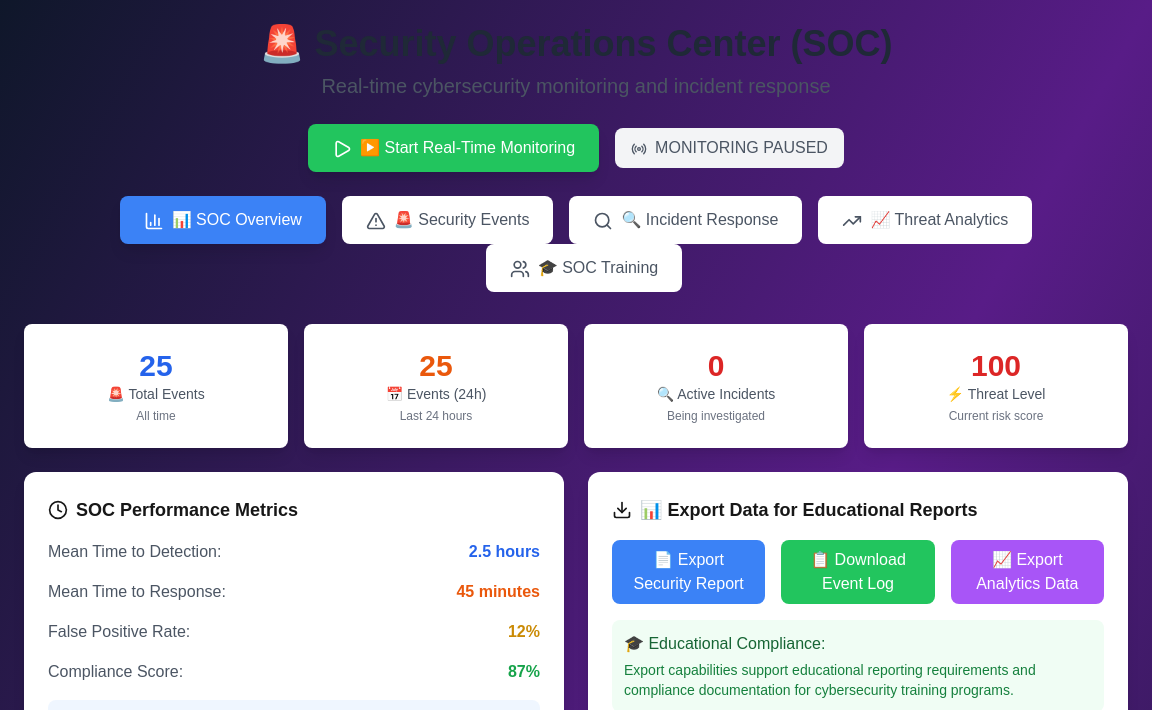
Test: 🏫 Educational Scenario Integration Tests › should handle typical classroom cybersecurity lesson scenario
// Teacher starts lesson by demonstrating real-time monitoring
Click the button "▶️ Start Real-Time Monitoring" at (454, 148), box [308,124,599,172]
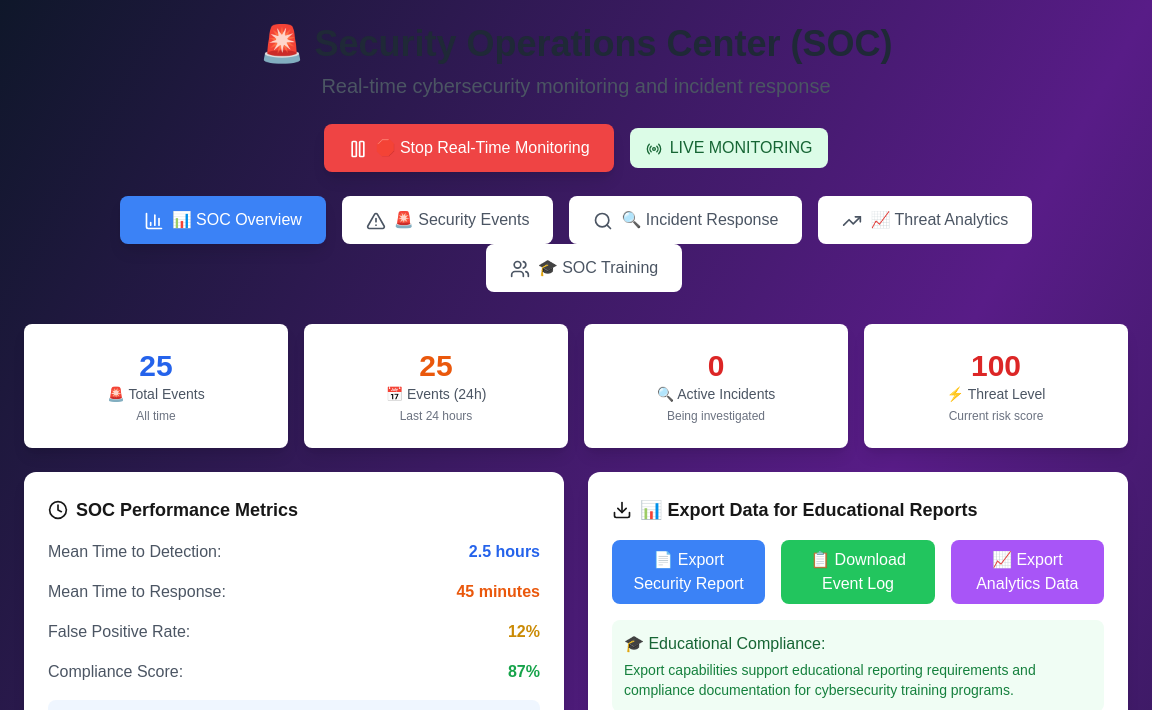
Expected: the button "🛑 Stop Real-Time Monitoring" is shown, [324,124,614,172]
// Teacher shows different views to students
Click the button "🚨 Security Events" at (448, 220), box [342,196,554,244]
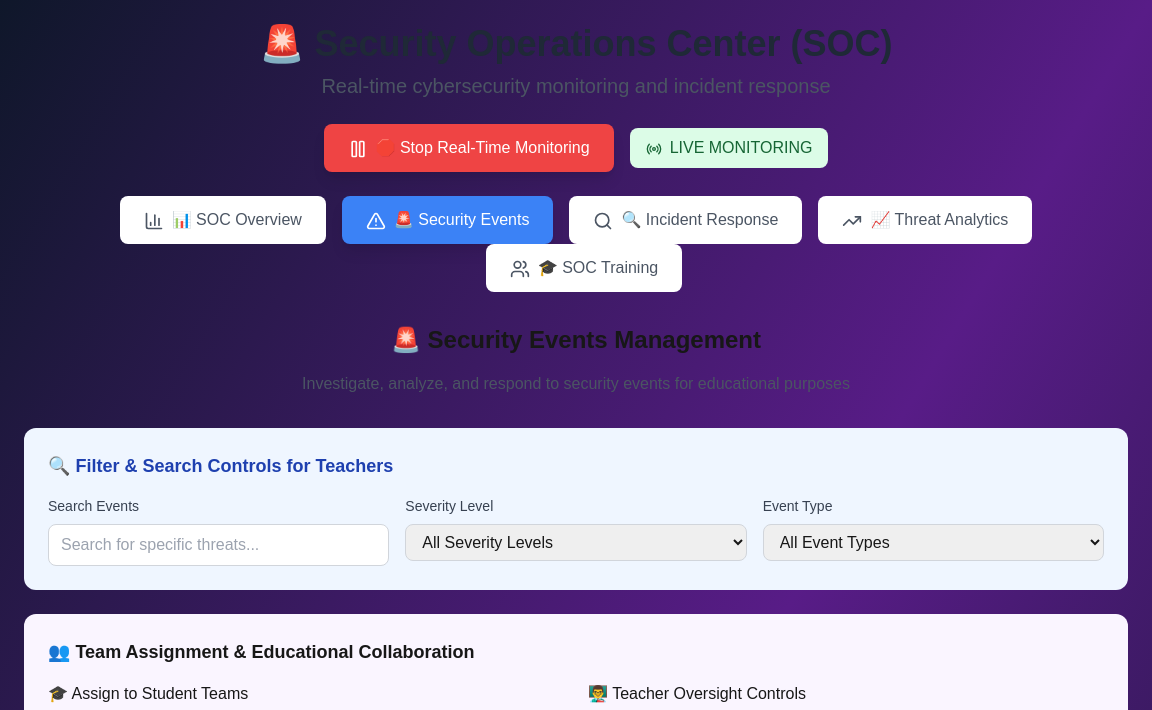
Expected: the button "🚨 Security Events" has class "bg-blue-500", [342,196,554,244]
Click the button "📈 Threat Analytics" at (925, 220), box [818,196,1032,244]
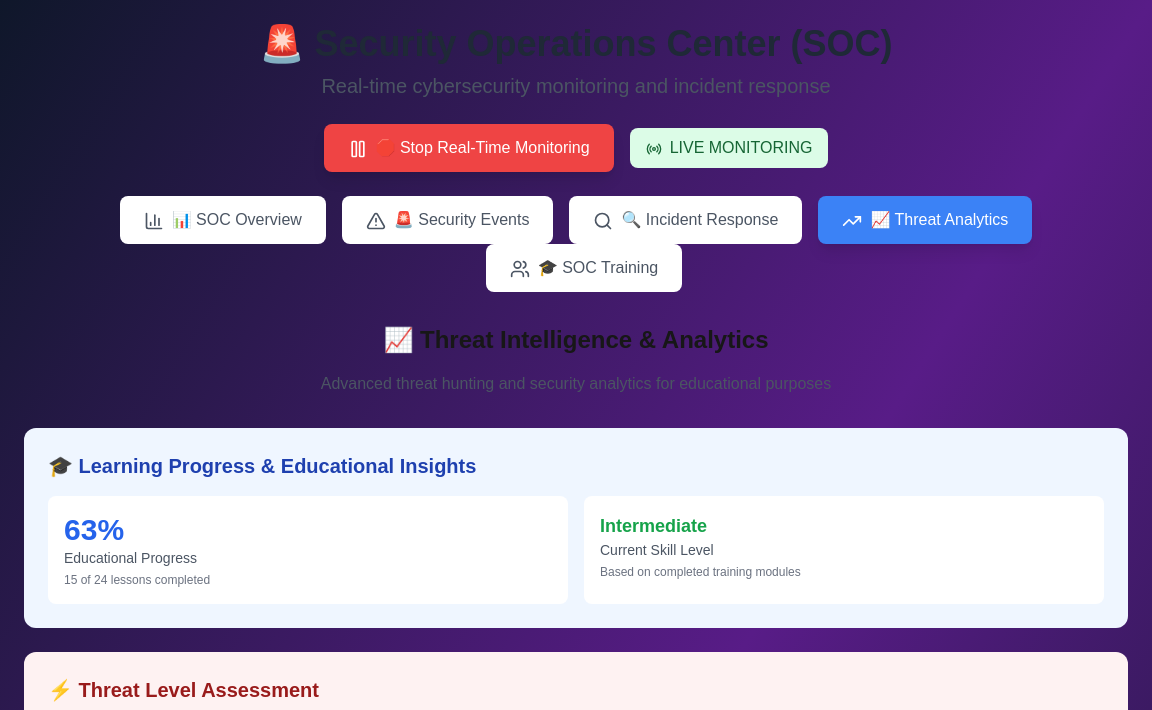
Expected: the button "📈 Threat Analytics" has class "bg-blue-500", [818,196,1032,244]
Click the button "🎓 SOC Training" at (584, 268), box [486,244,682,292]
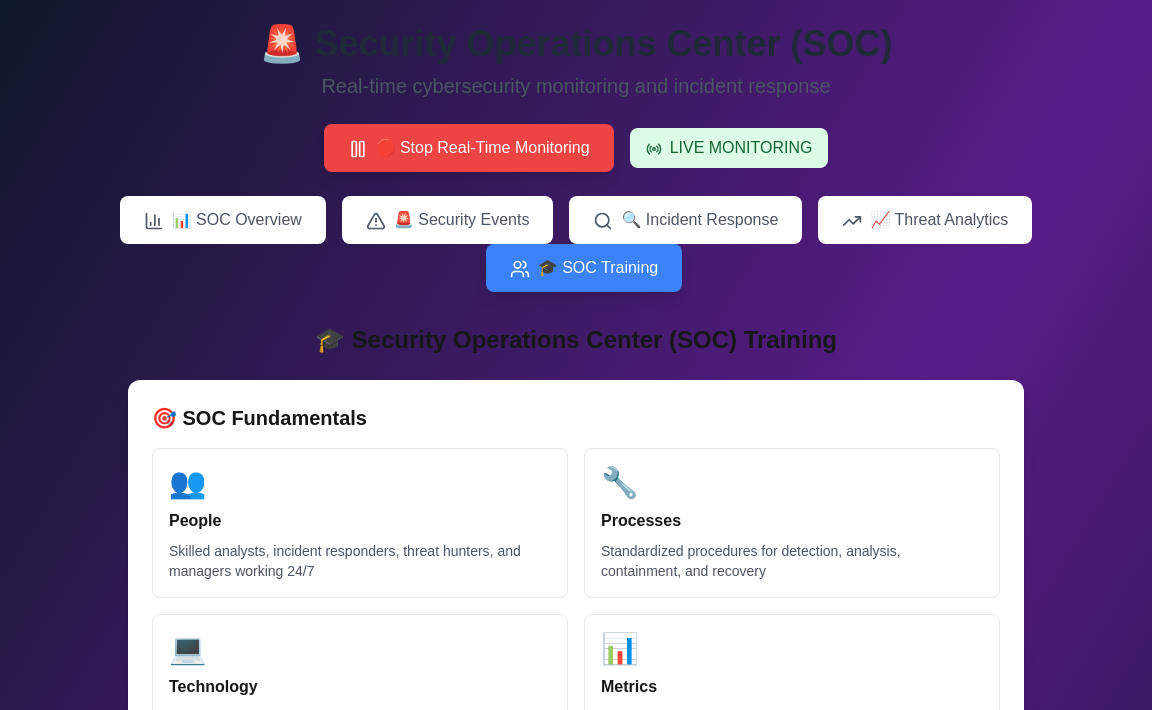
Expected: the button "🎓 SOC Training" has class "bg-blue-500", [486,244,682,292]
// Teacher stops monitoring at end of lesson
Click the button "🛑 Stop Real-Time Monitoring" at (469, 148), box [324,124,614,172]
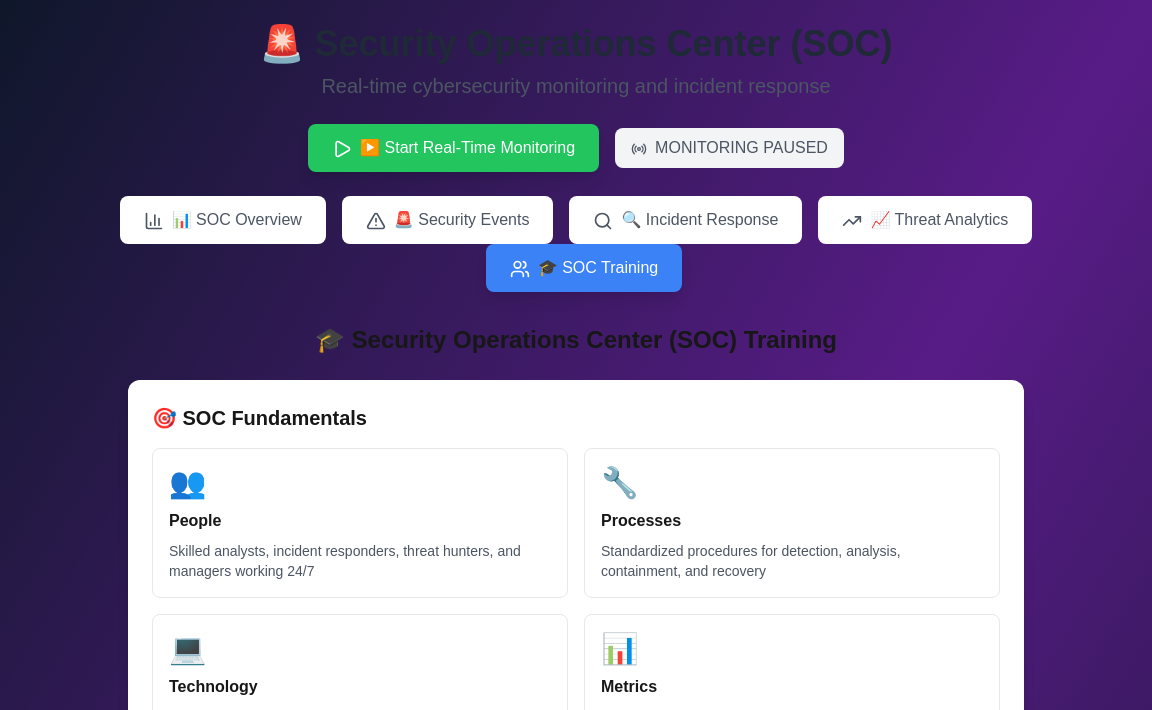
Expected: the button "▶️ Start Real-Time Monitoring" is shown, [308,124,599,172]
